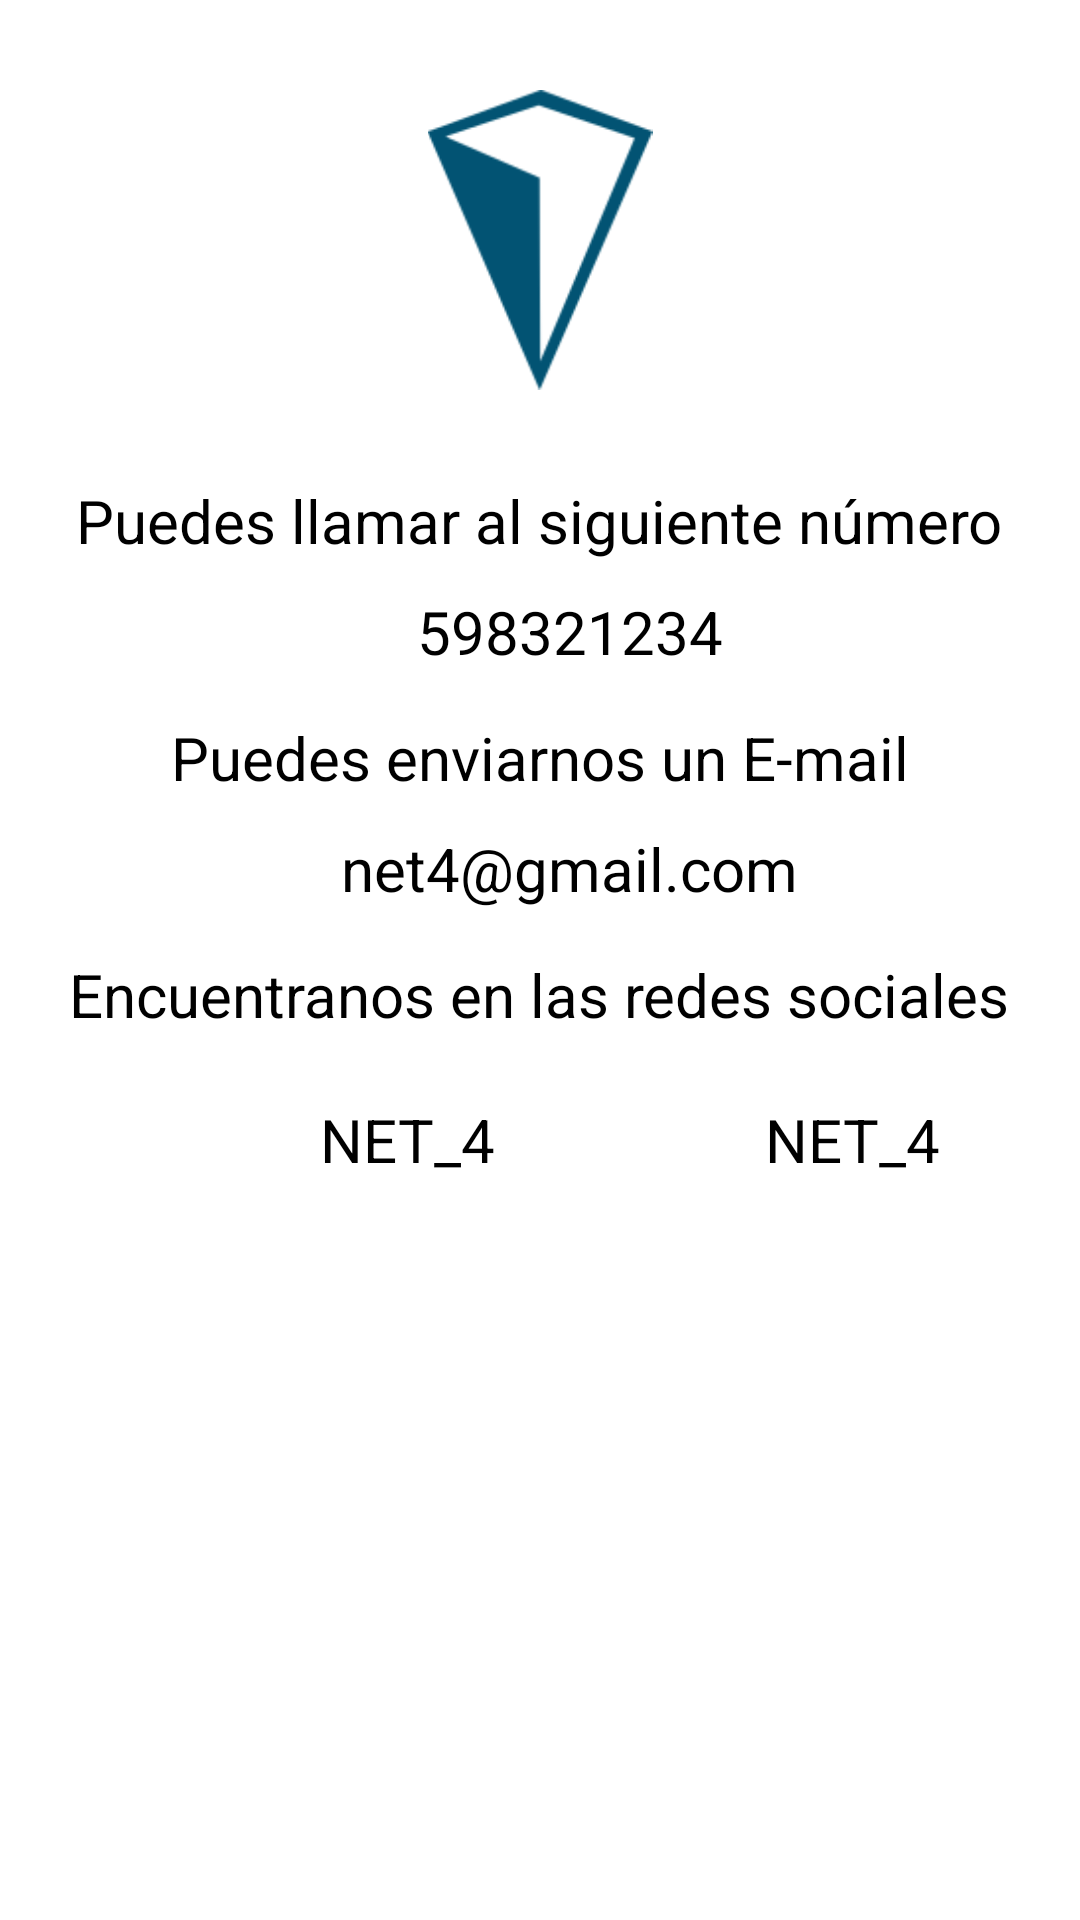

Point at icon controls on the screen. Image size 1080w x 1920h, points as (x,y).
piramide: (540,240)
